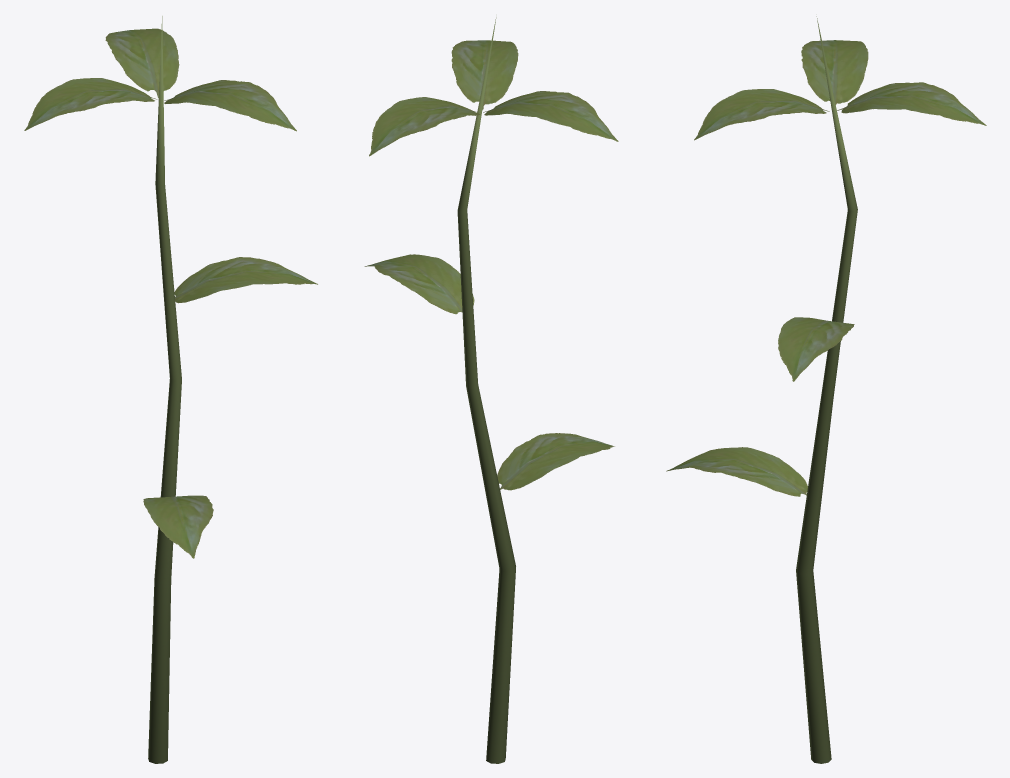
File: SM_PlantLife_00.fbx
The picture shows the model from 3 angles, left to right: view 1: azimuth 30°, elevation 25°; view 2: azimuth 150°, elevation 25°; view 3: azimuth 270°, elevation 25°; orthographic projection.
Parts seen in each view (by area): view 1: pPlane259; view 2: pPlane259; view 3: pPlane259.
Boxes of the visible parts, x1,y1,x2,y2 form: pPlane259: [24, 16, 317, 763]; pPlane259: [364, 17, 618, 763]; pPlane259: [666, 16, 986, 763].
Bounding box in the file's own units: 20.34 × 49.72 × 20.48.
1 material, 1 textured.
